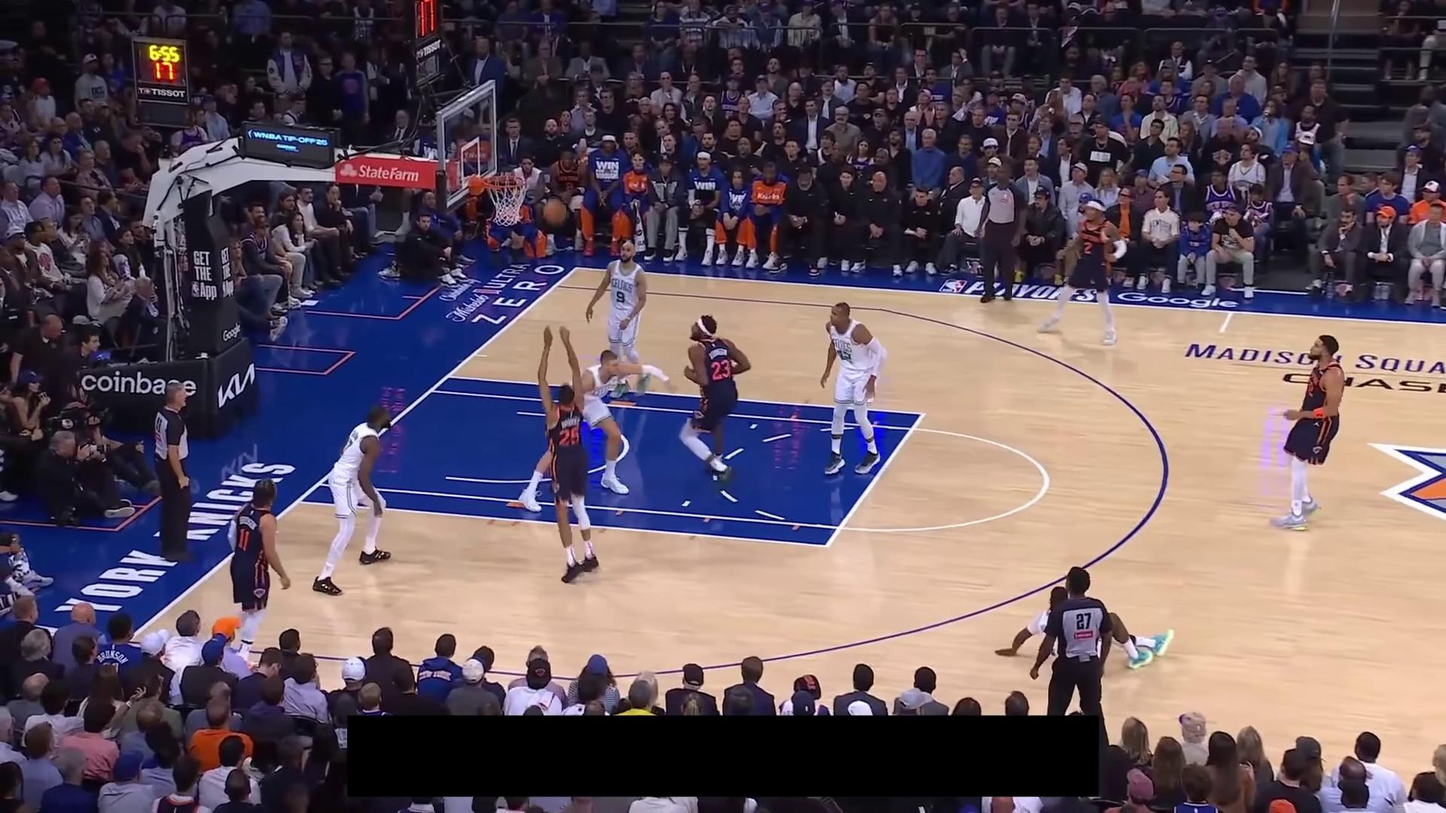ball: (544, 200, 567, 224)
number: (710, 358, 731, 381), (559, 426, 581, 446), (237, 528, 250, 551), (615, 289, 626, 304), (1083, 240, 1094, 254)
player: (519, 349, 673, 512), (537, 325, 600, 583), (1268, 333, 1347, 532), (312, 405, 392, 596), (995, 586, 1176, 670), (1036, 197, 1127, 349), (679, 314, 751, 488), (819, 300, 889, 477), (227, 478, 290, 668), (585, 240, 647, 398)
referee: (1030, 565, 1115, 716), (152, 381, 196, 561), (975, 159, 1029, 303)
rim: (483, 175, 526, 189)
